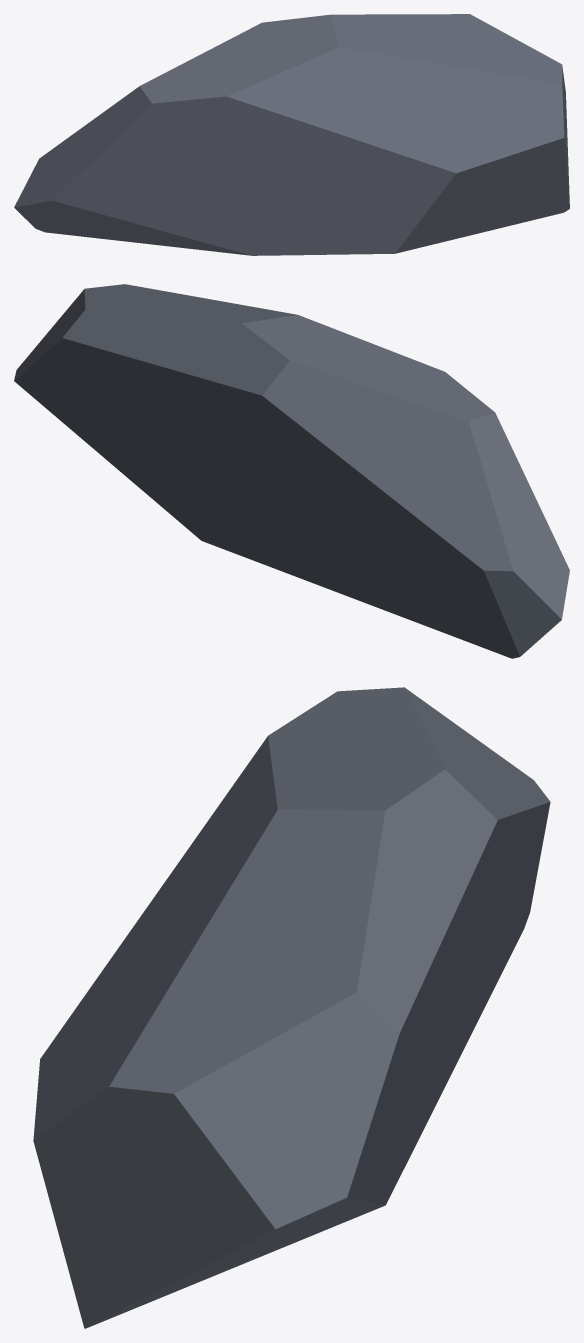
The model's file is Rock_Sharp_m_16.fbx.
3 renders of one model, top to bottom at view 1: azimuth 30°, elevation 25°; view 2: azimuth 150°, elevation 25°; view 3: azimuth 270°, elevation 25°, orthographic. The views are drawn at different scales.
Visible parts, largest first — view 1: Rock_Sharp_m_16; view 2: Rock_Sharp_m_16; view 3: Rock_Sharp_m_16.
Part boxes in pixels (left/top/right/bottom): Rock_Sharp_m_16: left=14, top=14, right=569, bottom=255; Rock_Sharp_m_16: left=14, top=284, right=569, bottom=658; Rock_Sharp_m_16: left=33, top=687, right=550, bottom=1328.
Bounding box in the file's own units: 151 × 53.18 × 68.53.
